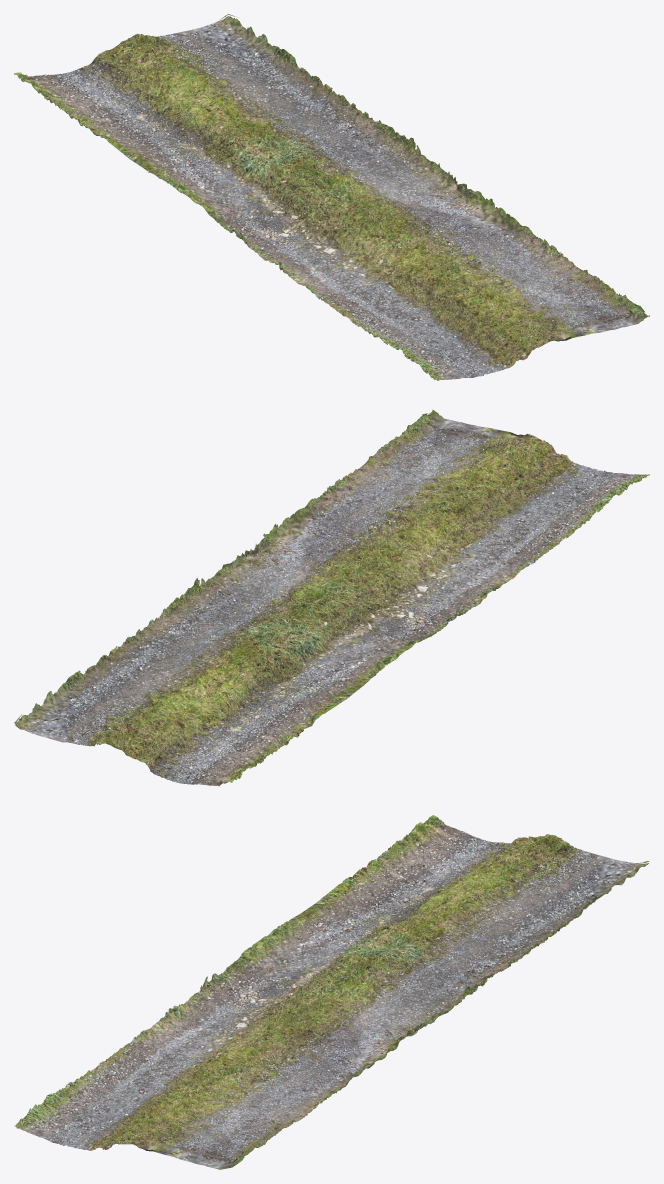
File: gravel_road_2 (1).glb
3 views of the same model, one above another, from view 1: azimuth 30°, elevation 25°; view 2: azimuth 150°, elevation 25°; view 3: azimuth 330°, elevation 25° (orthographic).
Visible parts, largest first — view 1: Object_2, Object_3; view 2: Object_2, Object_3; view 3: Object_2, Object_3.
Part boxes in pixels (<box>): Object_2: <box>17,14,649,380</box>; Object_3: <box>14,41,565,370</box>; Object_2: <box>14,409,649,786</box>; Object_3: <box>78,452,622,784</box>; Object_2: <box>15,816,649,1169</box>; Object_3: <box>42,815,585,1135</box>.
Bounding box in the file's own units: 1.67 × 0.216 × 5.54.
1 material, 1 textured.
